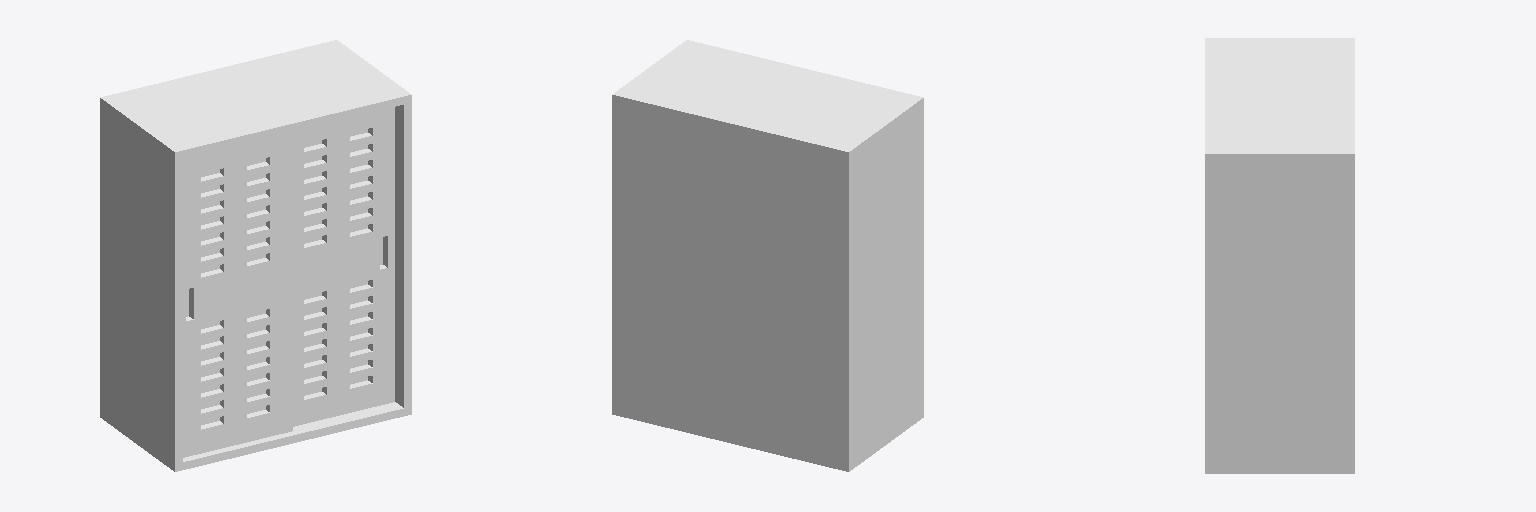
Rendered from closet.obj.
3 renders of one model, left to right at view 1: azimuth 30°, elevation 25°; view 2: azimuth 150°, elevation 25°; view 3: azimuth 270°, elevation 25°, orthographic.
Parts seen in each view (by area): view 1: object 1; view 2: object 1; view 3: object 1.
Part boxes in pixels (x1,y1,x2,y2): object 1: (100, 40, 411, 471); object 1: (612, 40, 923, 471); object 1: (1205, 38, 1354, 473).
Bounding box in the file's own units: 3.1 × 4 × 1.7.